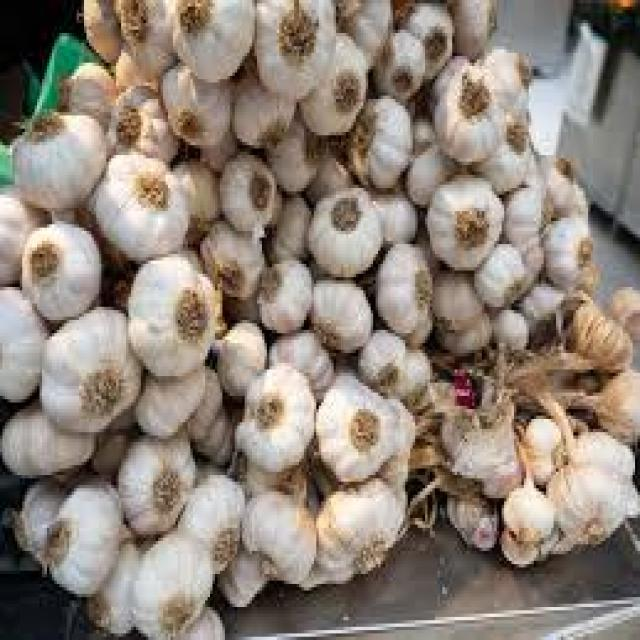Garlic: (30, 297, 149, 433), (120, 248, 223, 379), (9, 109, 117, 215), (88, 147, 193, 253), (42, 488, 135, 598), (429, 35, 507, 165), (11, 219, 110, 321), (314, 368, 395, 485), (127, 534, 220, 630), (164, 0, 258, 89), (302, 177, 386, 272), (250, 4, 336, 94), (238, 376, 326, 462), (116, 435, 198, 526), (370, 233, 440, 335), (427, 173, 500, 267), (153, 75, 240, 153), (236, 498, 310, 588), (340, 100, 421, 182), (305, 285, 385, 365), (306, 44, 372, 136), (550, 468, 630, 542), (207, 146, 279, 227), (255, 260, 327, 327), (502, 492, 566, 552)
